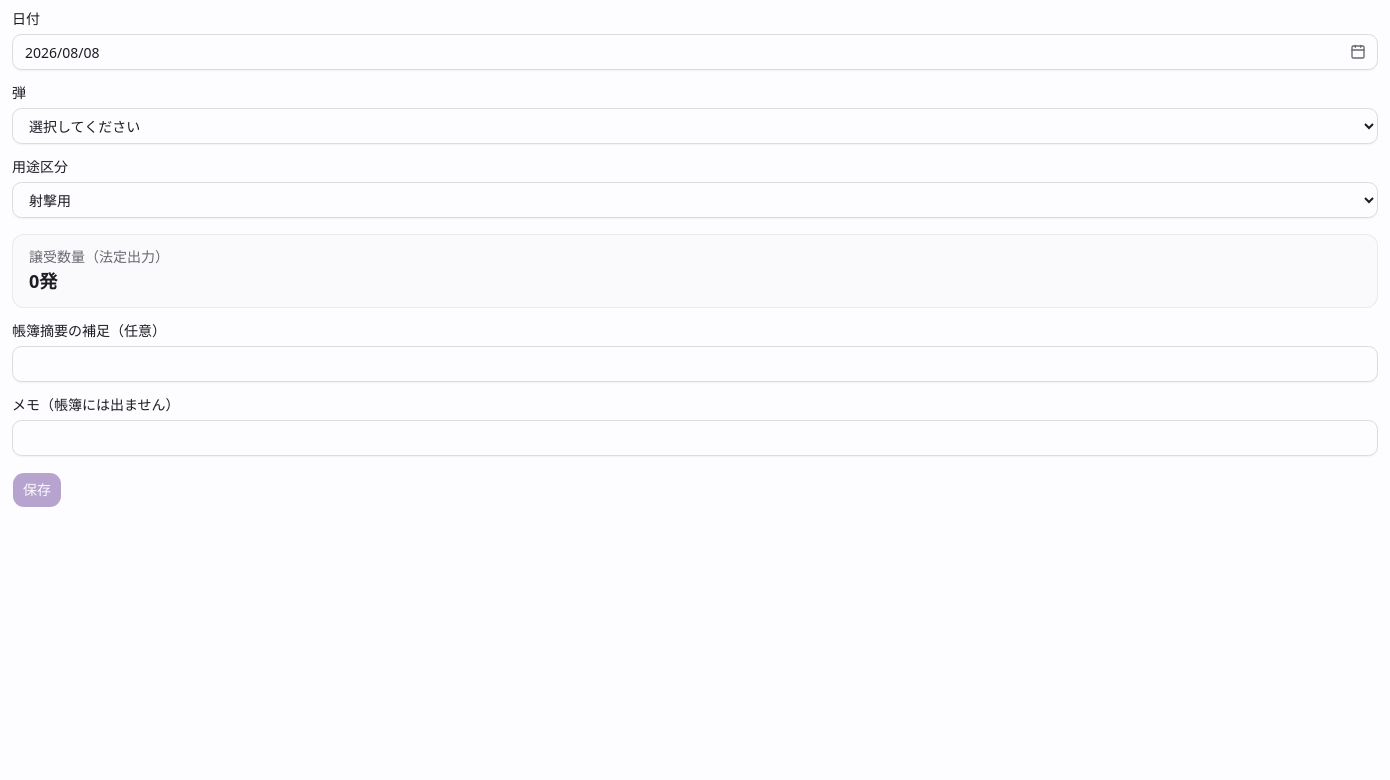
AcquireForm › 弾種の既定用途に有効な許可がなければ警告し、射撃用へ直すと警告を消す
Select "12番 散弾 7.5号（1箱25発 · 全用途の残0個）" in the dropdown labelled "弾". click: (695, 126)
box: [12, 108, 1378, 144]
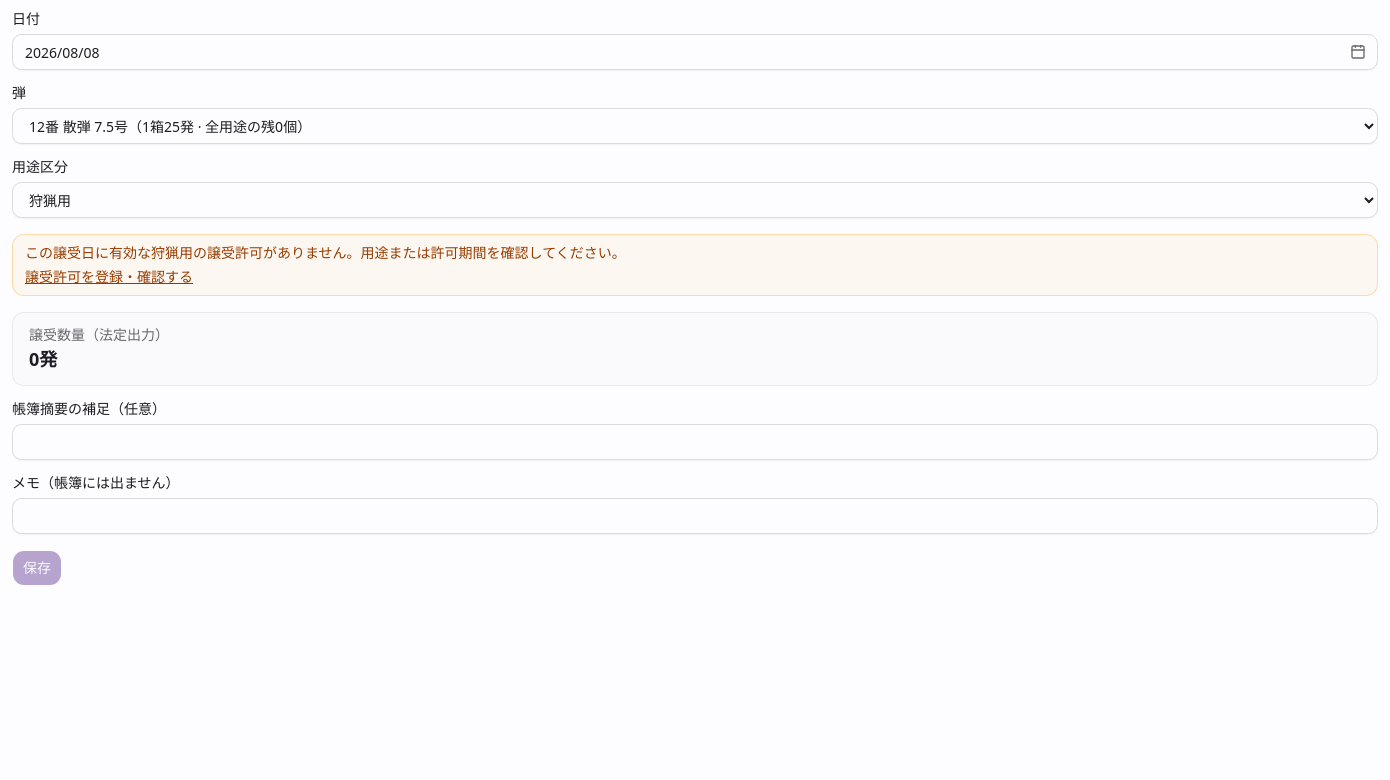
expect the button "保存" is disabled: met, box [12, 550, 62, 586]
expect the dropdown labelled "用途区分" shows "狩猟用": met
expect the text "この譲受日に有効な狩猟用の譲受許可がありません。用途または許可期間を確認してください。" is shown: met, box [25, 243, 626, 262]
Select "射撃用" in the dropdown labelled "用途区分". click: (695, 200)
box: [12, 182, 1378, 218]
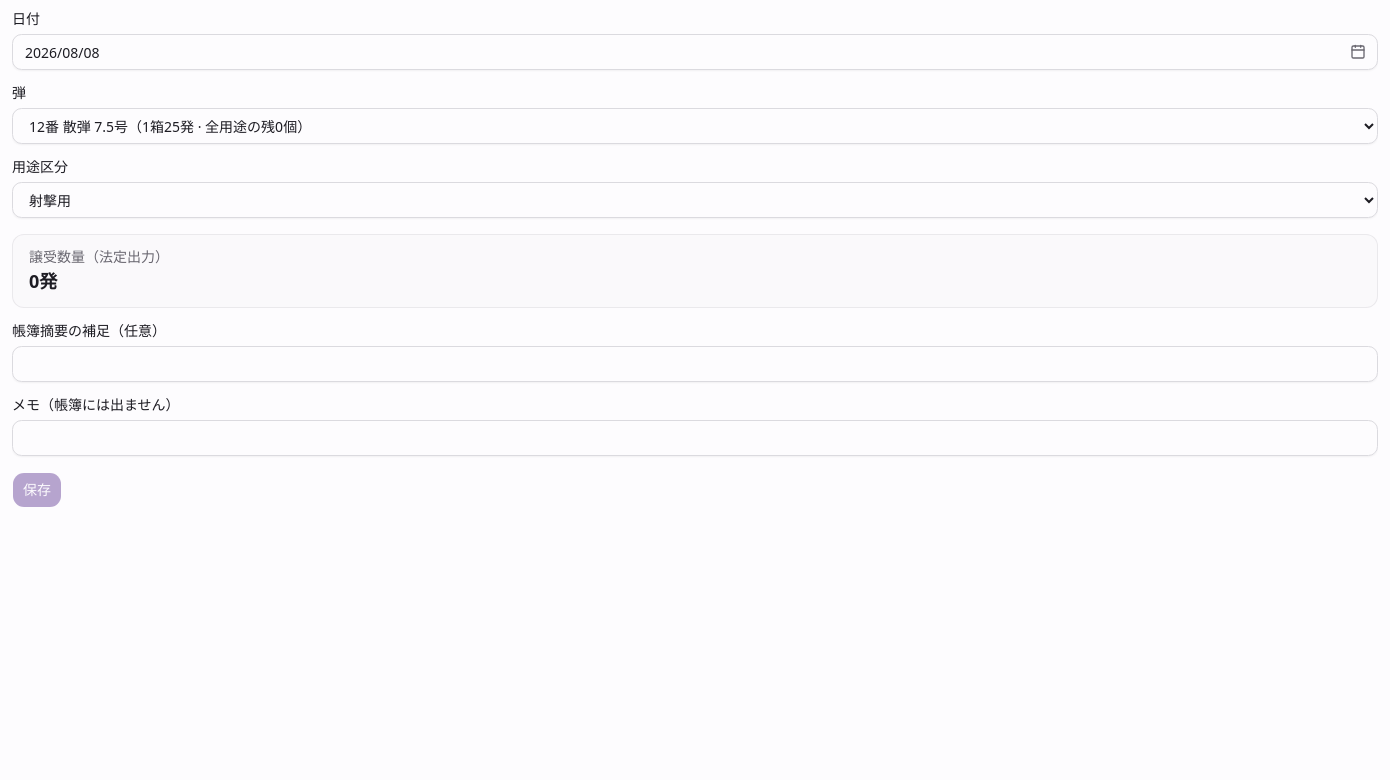
expect the text "この譲受日に有効な狩猟用" is gone: met
